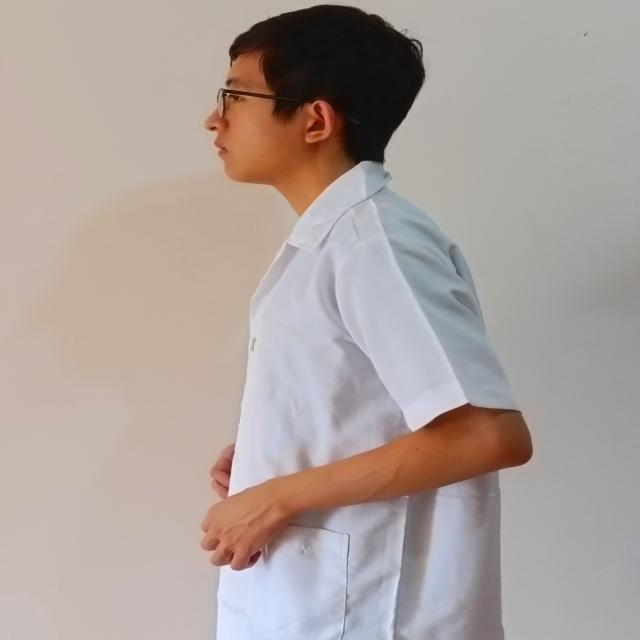person_with_labcoat: (201, 4, 532, 640)
